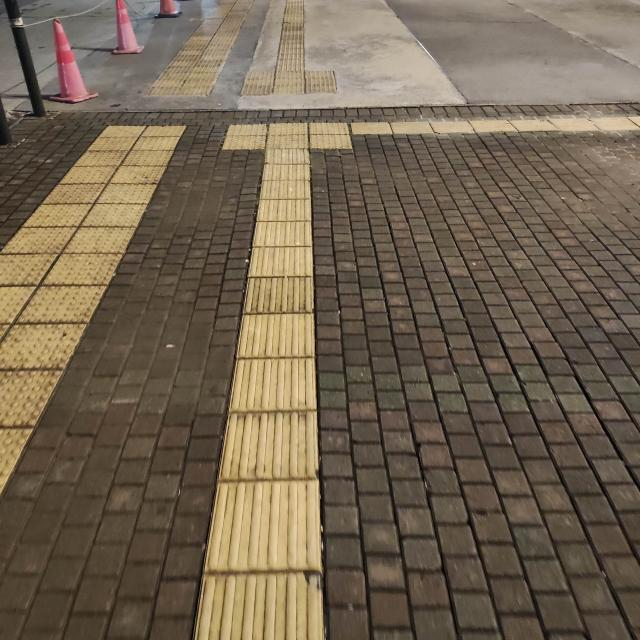kanan: (250, 104, 396, 168)
